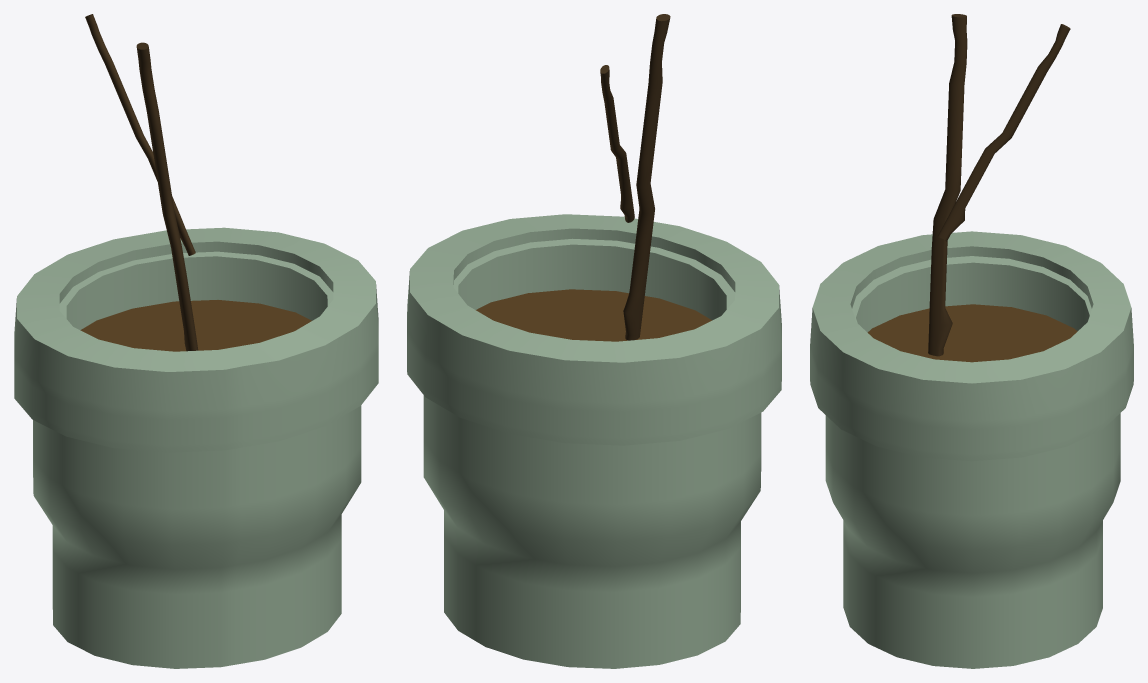
File: flowerpotthatsbetter.fbx
3 renders of one model, left to right at view 1: azimuth 30°, elevation 25°; view 2: azimuth 150°, elevation 25°; view 3: azimuth 270°, elevation 25°, orthographic. The views are drawn at different scales.
Parts seen in each view (by area): view 1: pasted__polySurface7; view 2: pasted__polySurface7; view 3: pasted__polySurface7.
Boxes of the visible parts, x1,y1,x2,y2 form: pasted__polySurface7: (14, 14, 378, 668); pasted__polySurface7: (407, 14, 781, 668); pasted__polySurface7: (810, 14, 1133, 668).
Bounding box in the file's own units: 1.19 × 2.05 × 1.06.
